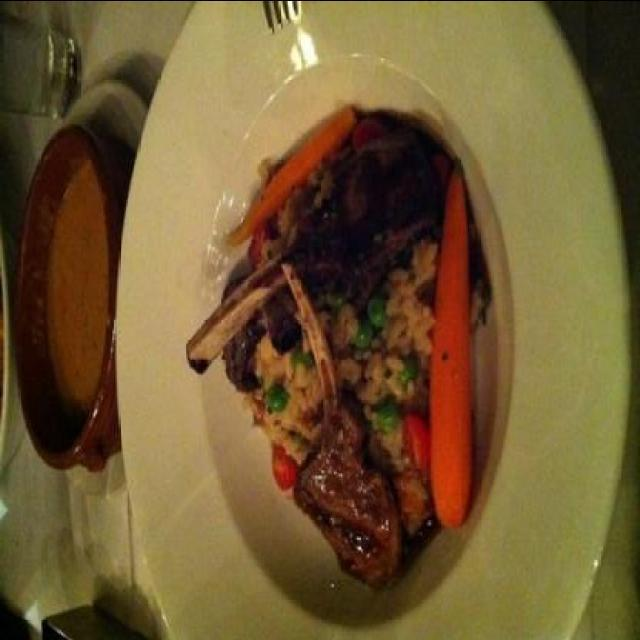Risotto: (204, 128, 478, 586)
